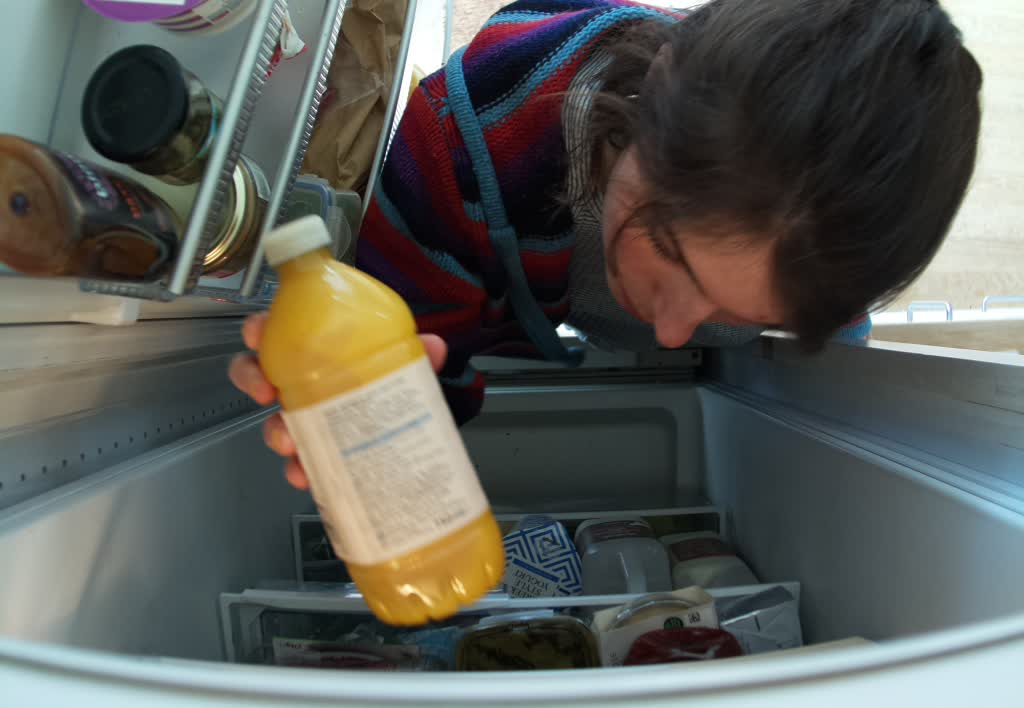juice: (254, 208, 508, 626)
